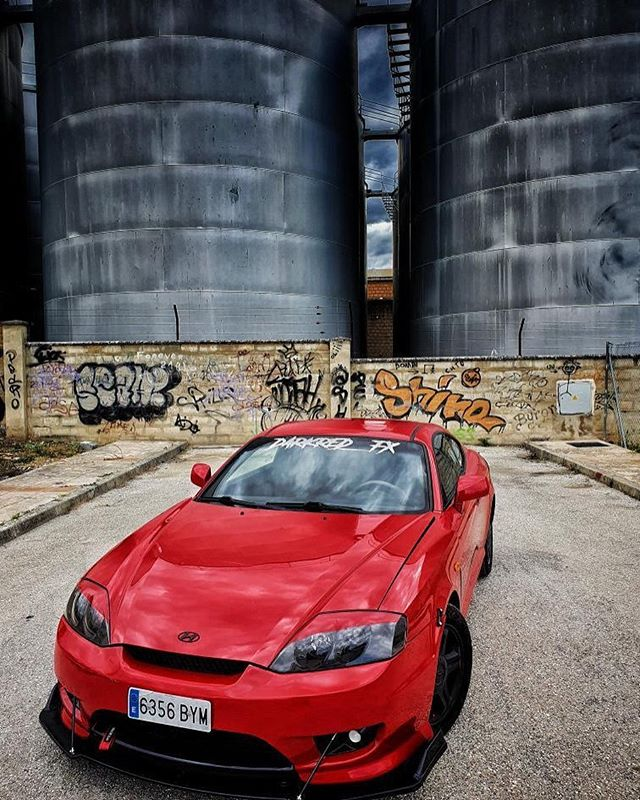car: (64, 431, 500, 791)
graffiti: (66, 347, 232, 442), (362, 355, 516, 454), (226, 338, 346, 443)
